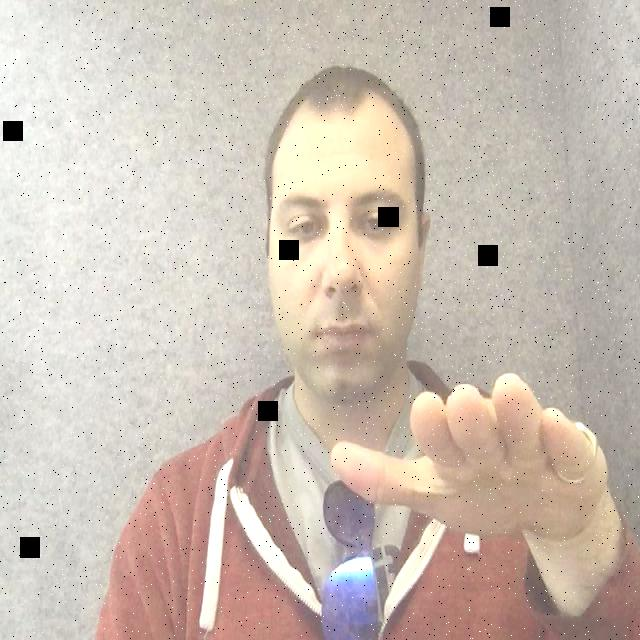Paper: (324, 372, 610, 554)
